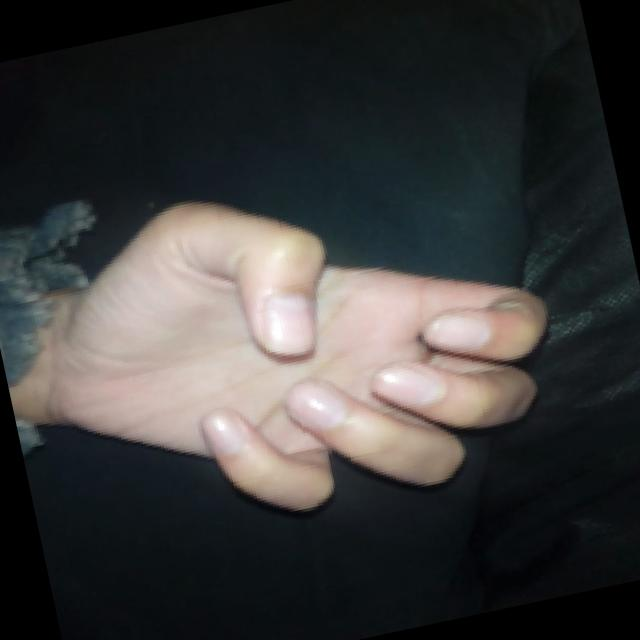Nail: (263, 293, 314, 353), (285, 380, 347, 428), (373, 365, 442, 407), (423, 316, 490, 350), (201, 412, 244, 454)
